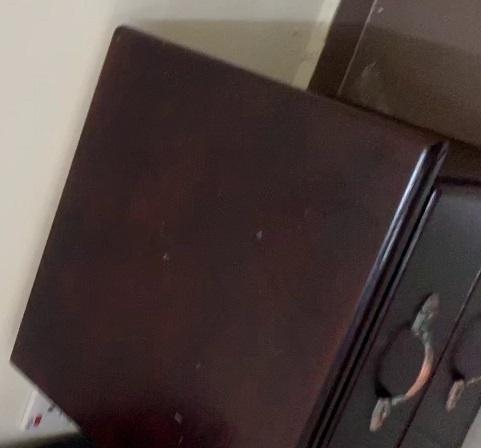cabinet_door: (370, 178, 443, 448)
handle: (366, 288, 447, 440)
